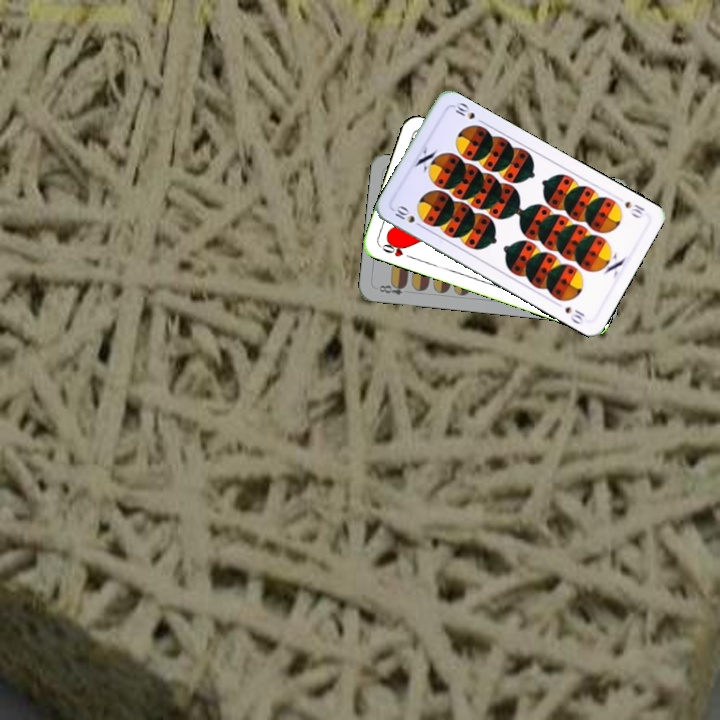E8: (373, 279, 409, 297)
HO: (376, 237, 416, 261)
S10: (391, 202, 426, 231), (621, 197, 647, 221)
